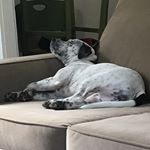puppy: (5, 37, 148, 114)
